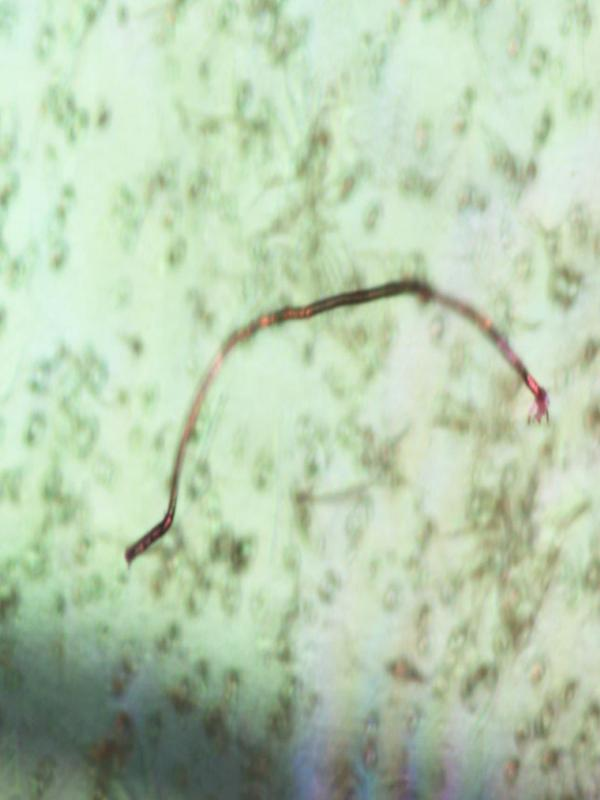microplastic: (123, 273, 551, 569)
